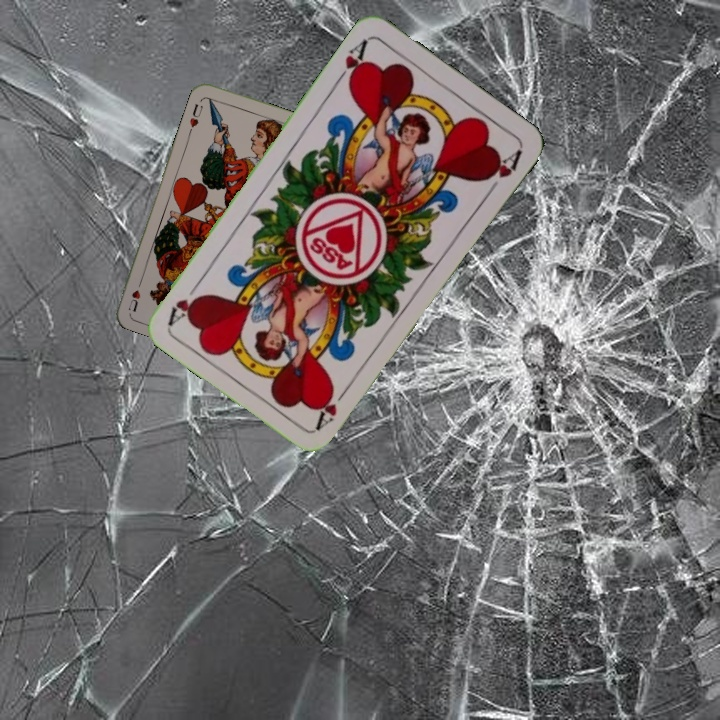HA: (331, 35, 371, 90), (312, 380, 353, 431)
HU: (185, 99, 206, 134)
